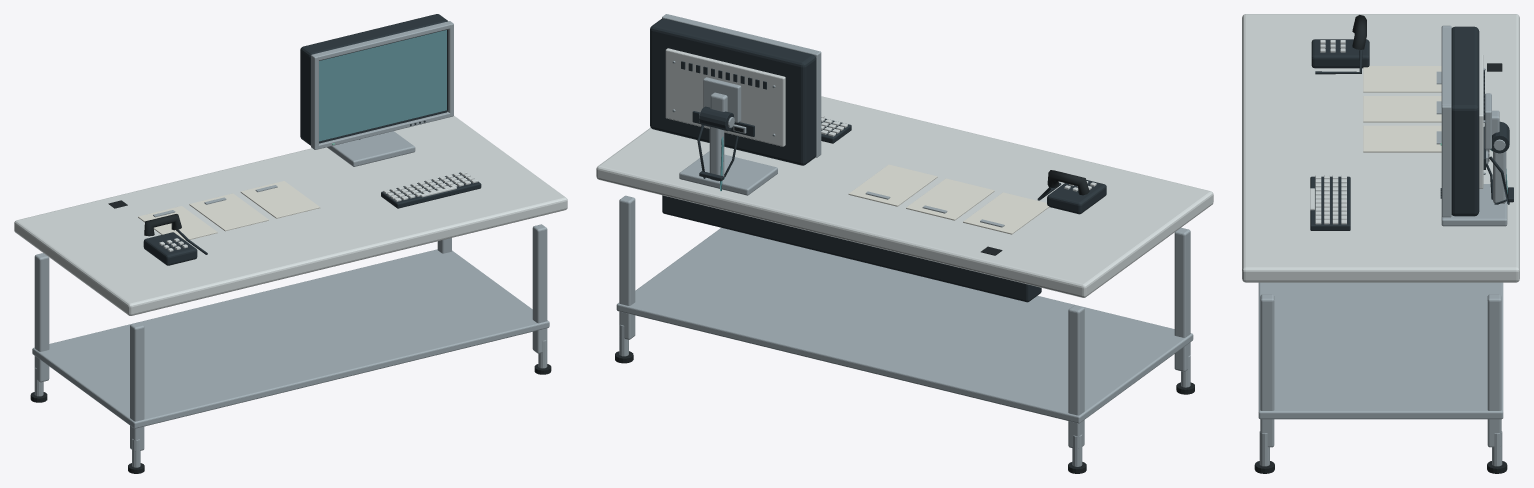
Rendered from SF_TransferNurseDesk.fbx.
3 renders of one model, left to right at view 1: azimuth 30°, elevation 25°; view 2: azimuth 150°, elevation 25°; view 3: azimuth 270°, elevation 25°, orthographic. The views are drawn at different scales.
Visible parts, largest first — view 1: SF_TransferNurseDesk; view 2: SF_TransferNurseDesk; view 3: SF_TransferNurseDesk.
Part boxes in pixels (x1,y1,x2,y2): SF_TransferNurseDesk: [14, 14, 567, 473]; SF_TransferNurseDesk: [596, 14, 1213, 473]; SF_TransferNurseDesk: [1242, 14, 1519, 473].
Size of the model in its own units: 240 by 155 by 110.
